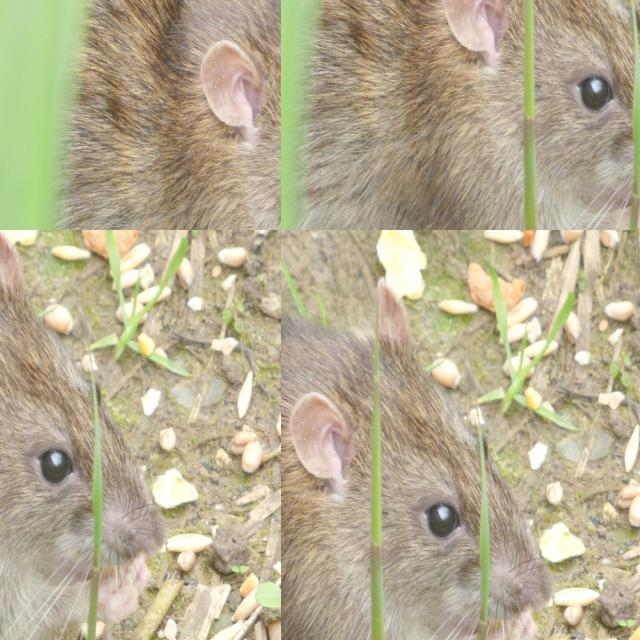rat: (281, 275, 554, 640), (484, 52, 640, 223)
